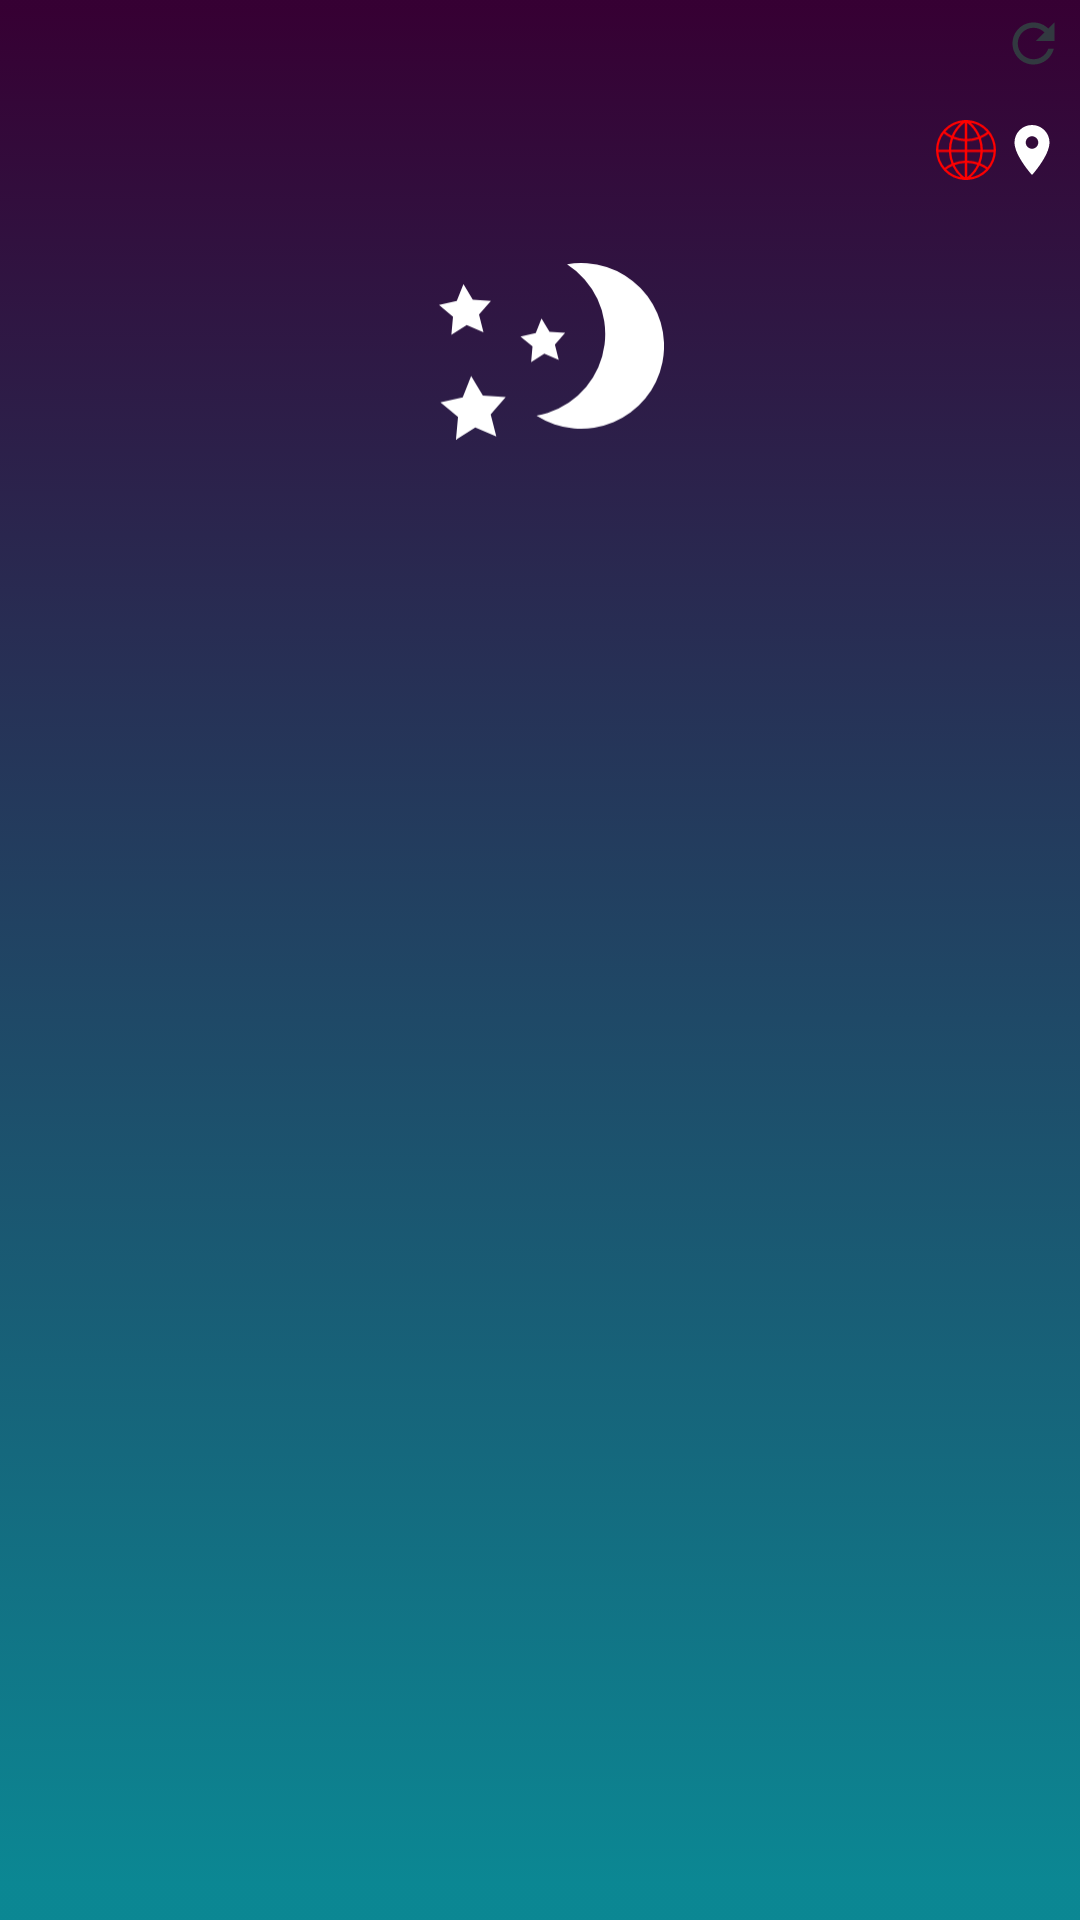

Icon click points for this 1080×1920 phone screenshot, format (x=x, y=y):
clearsky night: (x=551, y=351)
internet: (x=966, y=150)
location on: (x=1032, y=150)
refresh: (x=1033, y=43)
